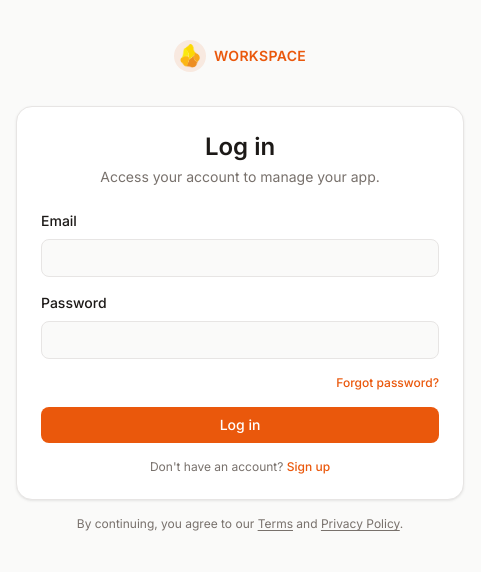
Login page › shows validation errors when submitting empty form
Click the button "Log in" at (240, 425), box left=41, top=407, right=439, bottom=443
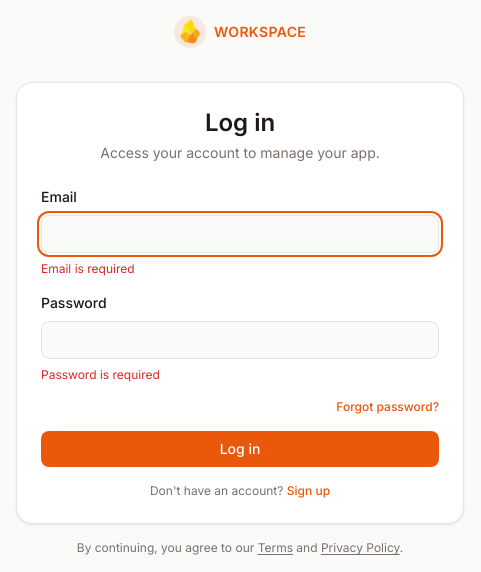
Expected: the text "Email is required" is shown, left=41, top=261, right=135, bottom=276
Expected: the text "Password is required" is shown, left=41, top=367, right=160, bottom=382
